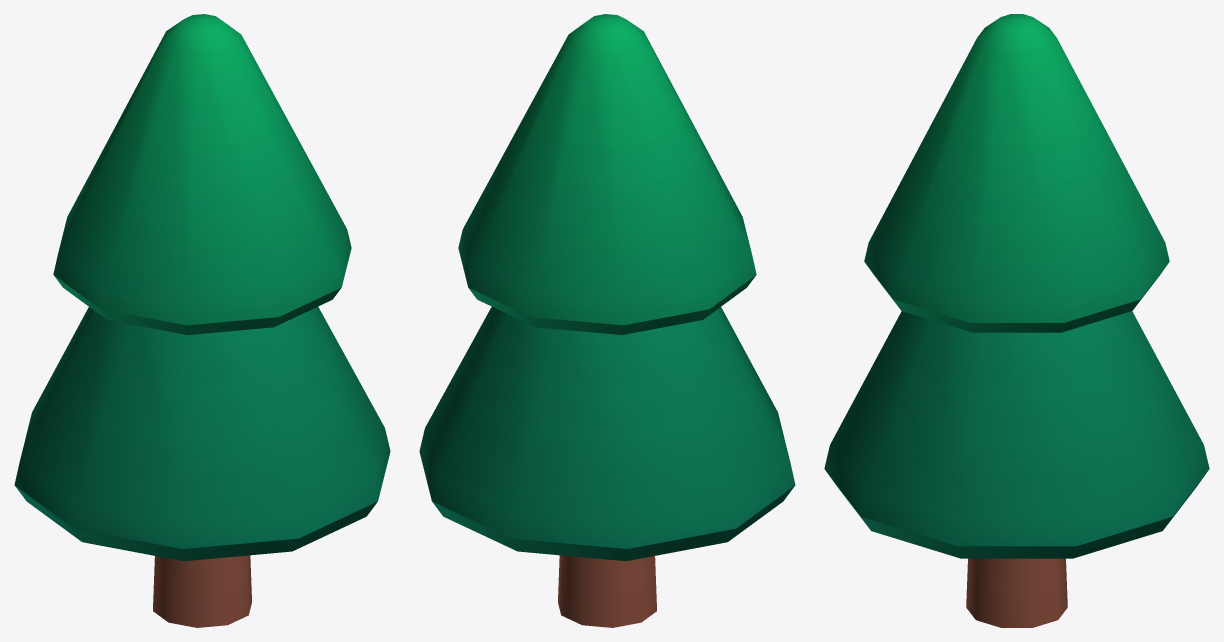
The model's file is kk_tree_b_v1.glb.
3 views of the same model, side by side, from view 1: azimuth 30°, elevation 25°; view 2: azimuth 150°, elevation 25°; view 3: azimuth 270°, elevation 25° (orthographic).
Parts seen in each view (by area): view 1: tree_single_B; view 2: tree_single_B; view 3: tree_single_B.
Boxes of the visible parts, x1,y1,x2,y2 form: tree_single_B: (14, 14, 390, 627); tree_single_B: (419, 14, 795, 627); tree_single_B: (824, 14, 1209, 627).
Bounding box in the file's own units: 0.6849 × 1.21 × 0.7201.
Materials: 1 (1 with a texture image).
